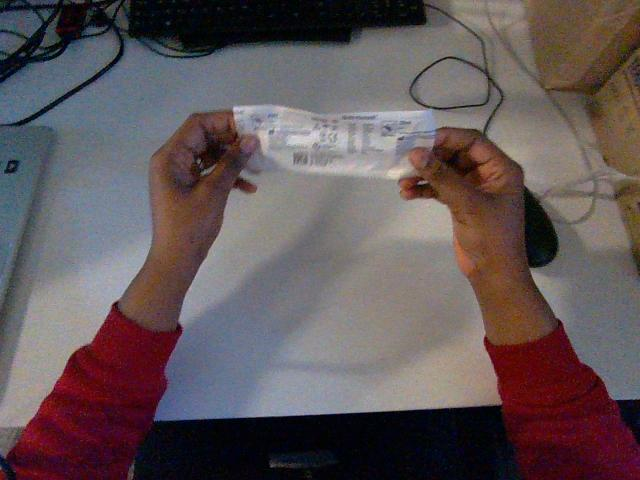syringe: (233, 105, 434, 178)
